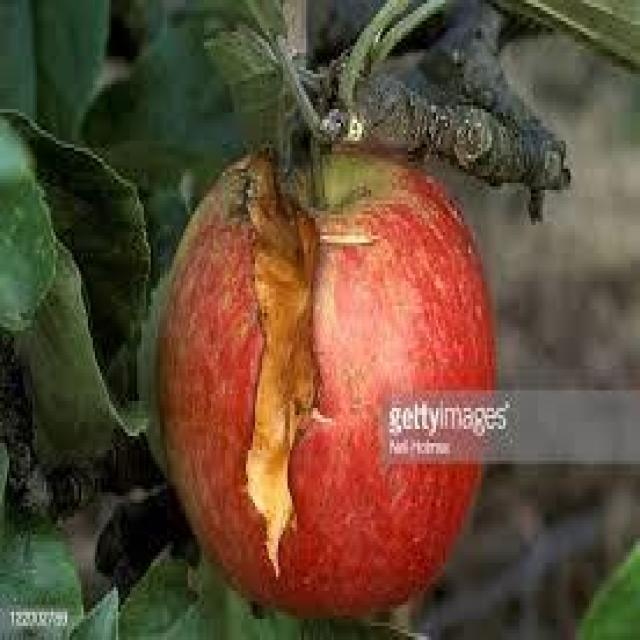maca: (148, 137, 498, 619)
